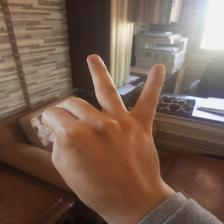five: (34, 52, 176, 182)
